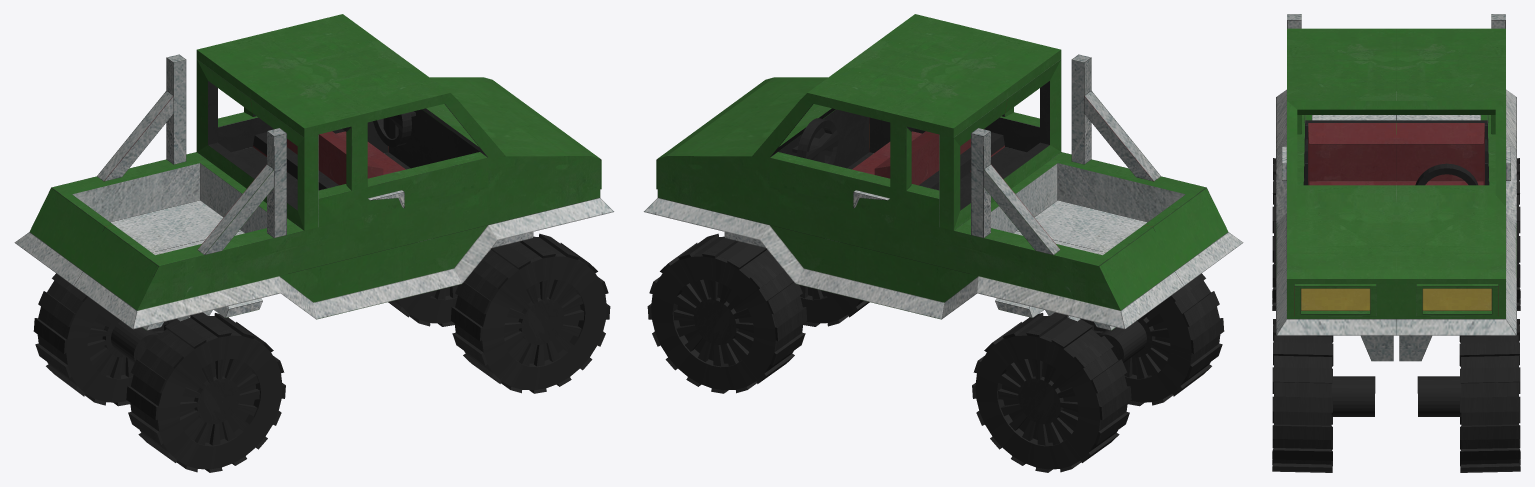
Rendered from Caminhonete_Ryann_Tex.fbx.
3 views of the same model, side by side, from view 1: azimuth 30°, elevation 25°; view 2: azimuth 150°, elevation 25°; view 3: azimuth 270°, elevation 25° (orthographic).
Visible parts, largest first — view 1: Cube, Cube.001; view 2: Cube, Cube.001; view 3: Cube, Cube.001.
Part boxes in pixels (bbox=[...]): Cube: bbox=[14, 14, 613, 330]; Cube.001: bbox=[33, 233, 610, 472]; Cube: bbox=[644, 14, 1243, 330]; Cube.001: bbox=[647, 233, 1224, 472]; Cube: bbox=[1276, 14, 1516, 361]; Cube.001: bbox=[1272, 158, 1520, 472].
Bounding box in the file's own units: 772 × 485 × 339.
Materials: 1 (1 with a texture image).
